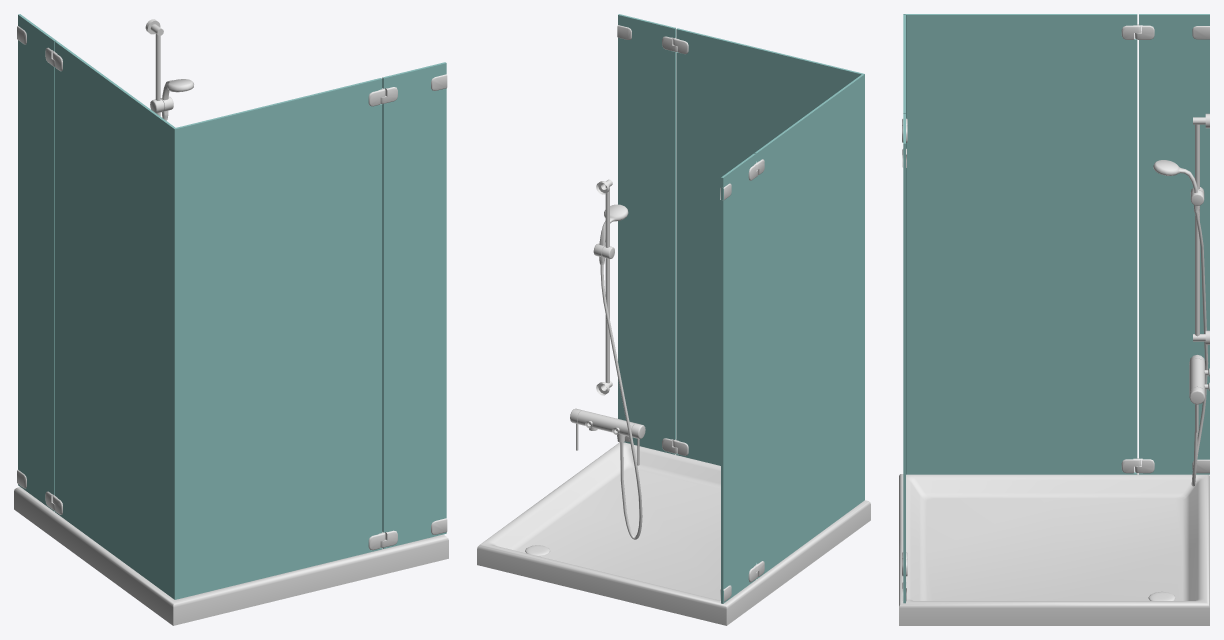
The model's file is Bathroom_Shower.fbx.
The picture shows the model from 3 angles, left to right: view 1: azimuth 30°, elevation 25°; view 2: azimuth 150°, elevation 25°; view 3: azimuth 270°, elevation 25°; orthographic projection. The views are drawn at different scales.
Parts seen in each view (by area): view 1: SM_Bath; view 2: SM_Bath; view 3: SM_Bath.
Part boxes in pixels (left/top/right/bottom): SM_Bath: left=14, top=14, right=448, bottom=625; SM_Bath: left=477, top=14, right=870, bottom=625; SM_Bath: left=899, top=14, right=1209, bottom=625.
Size of the model in its own units: 130 by 223 by 130.
